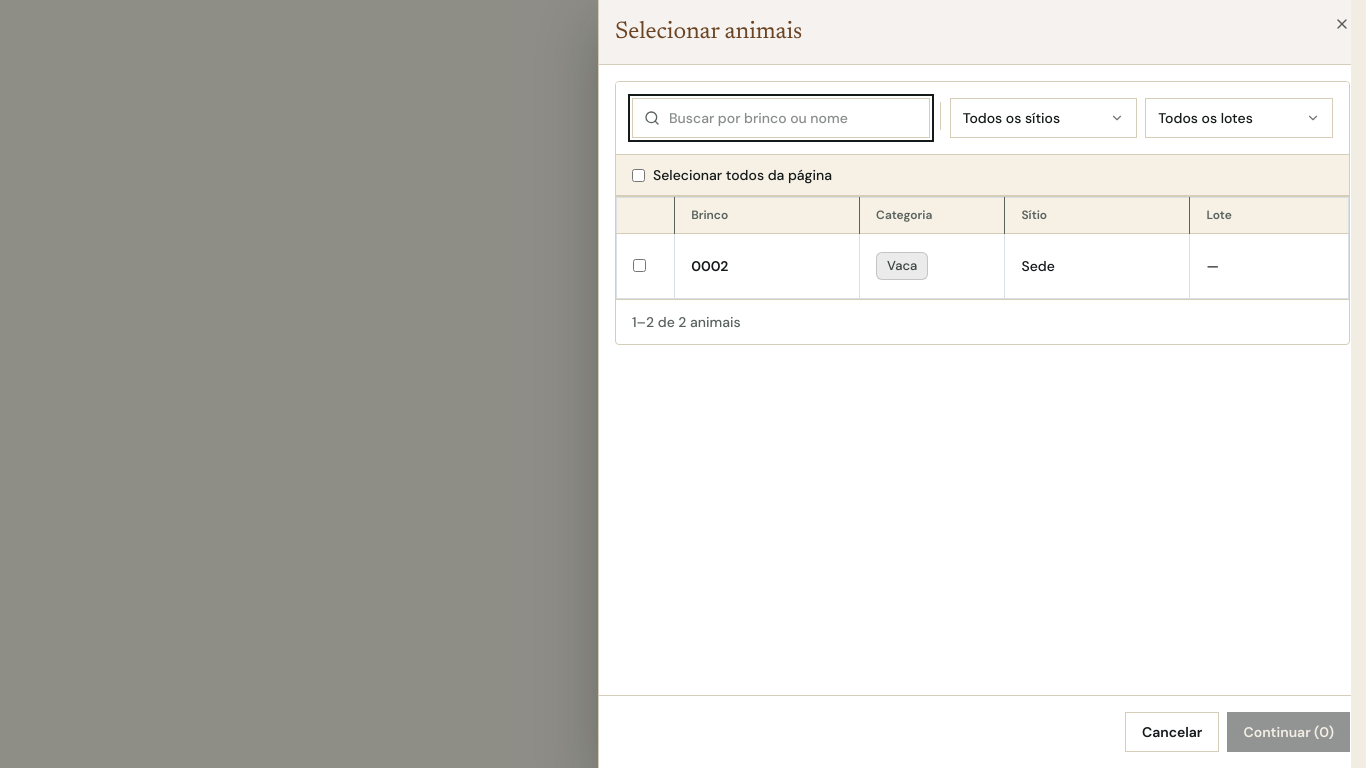
Test: SeletorAnimais › excluirLoteId é enviado à API e remove o lote do filtro de origem
Click the dropdown named "Filtrar por lote de origem": (1239, 118) [1145,98,1333,138]
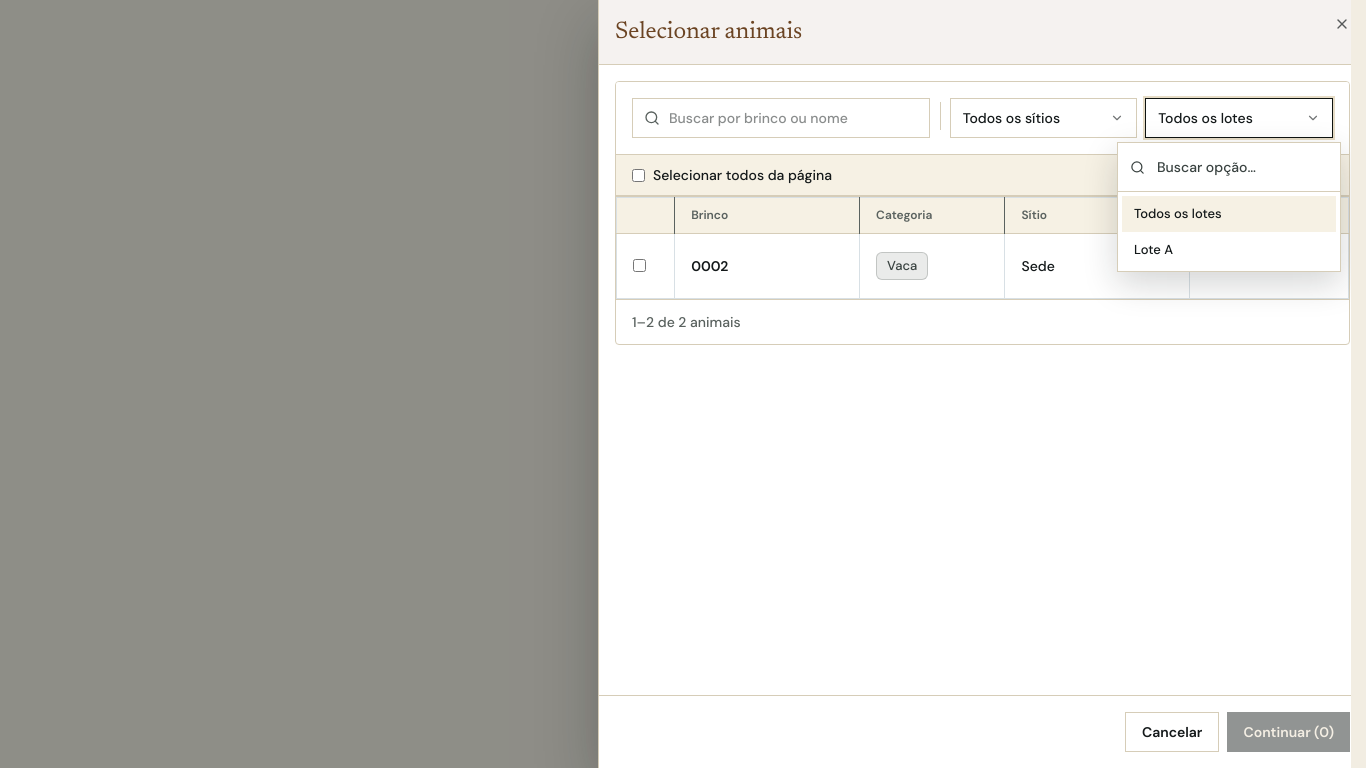
Expected: the option "Lote A" is shown, [1134,240,1173,258]
